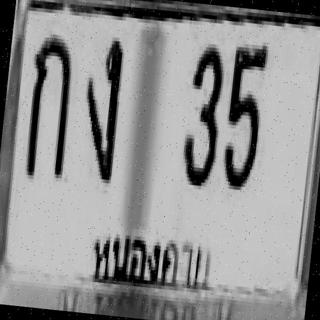A01: (21, 32, 75, 178)
A07: (77, 35, 124, 180)
N03: (178, 42, 225, 187)
N05: (220, 41, 267, 190)
P36: (87, 213, 221, 298)
